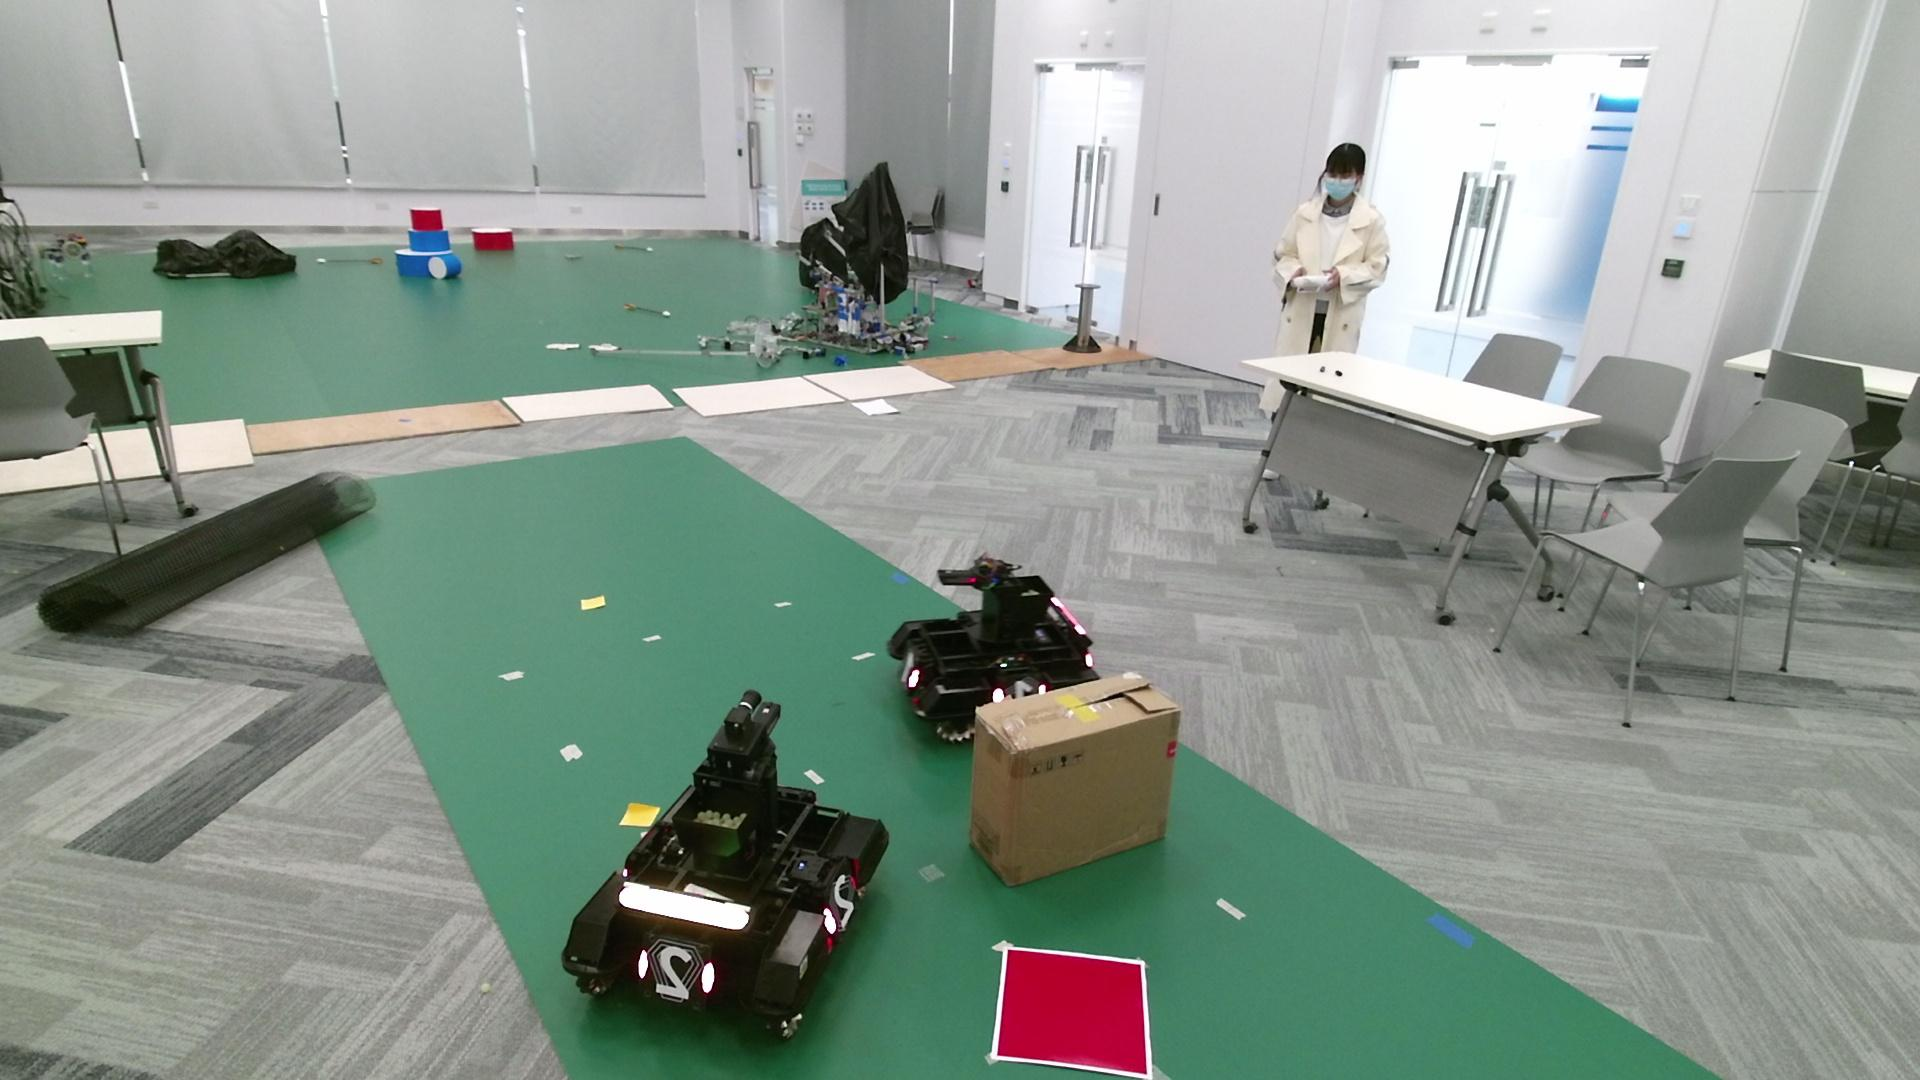robot: (560, 688, 891, 1039), (885, 553, 1102, 745)
